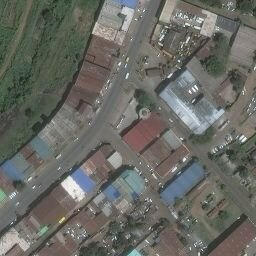tree: (203, 55, 219, 72), (237, 166, 249, 179), (12, 180, 24, 192), (108, 221, 120, 232), (30, 122, 42, 132), (43, 11, 54, 21), (24, 108, 33, 117), (218, 210, 227, 219), (226, 149, 232, 155), (229, 154, 235, 160)
